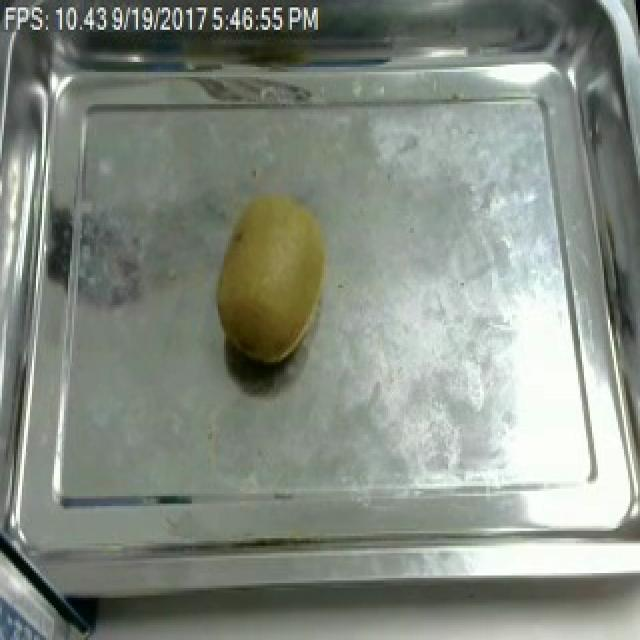Fruit: (210, 181, 338, 370)
